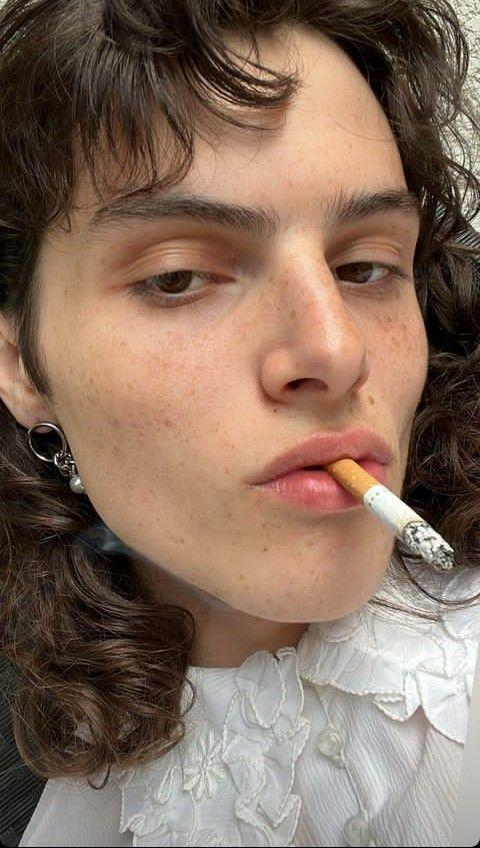cigarette: (323, 457, 456, 570)
